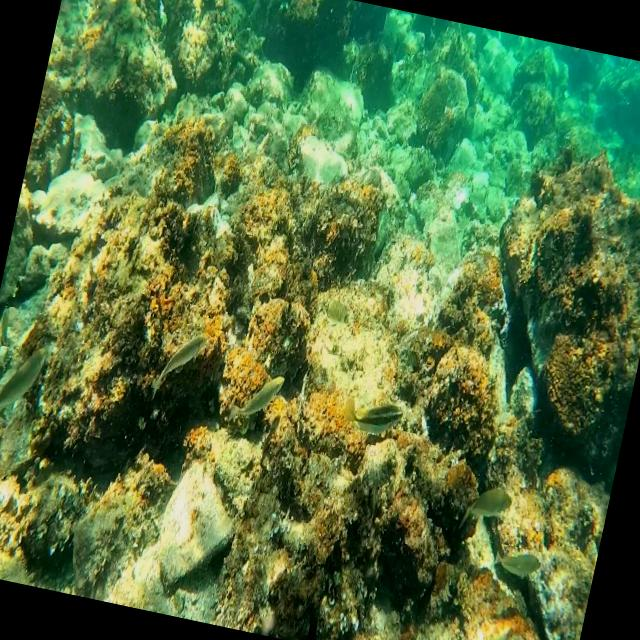Sokar Baligi: (142, 312, 216, 418), (0, 328, 55, 441), (228, 360, 290, 442), (454, 467, 521, 542), (344, 381, 411, 448), (484, 535, 548, 589)
